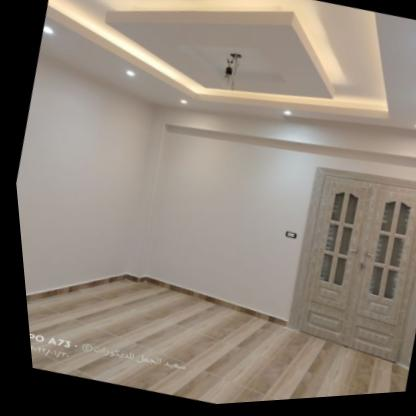Gypsum Board: (20, 0, 416, 210)
